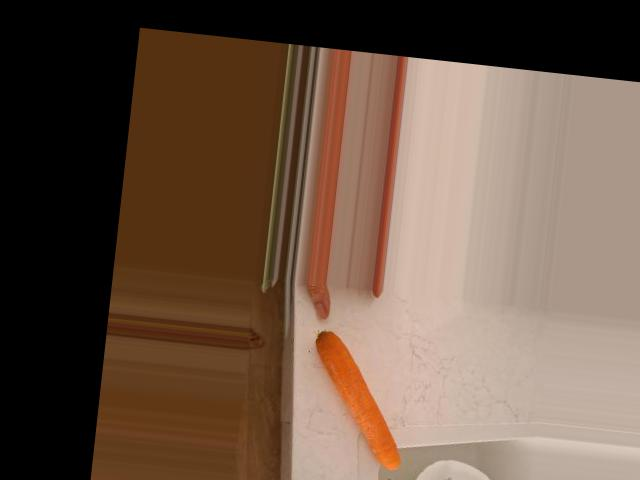carrot: (299, 326, 415, 471)
